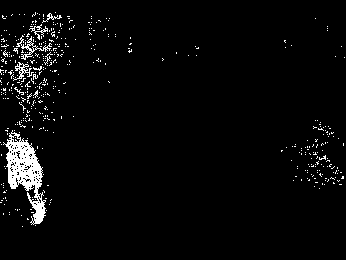person: (4, 130, 50, 225)
